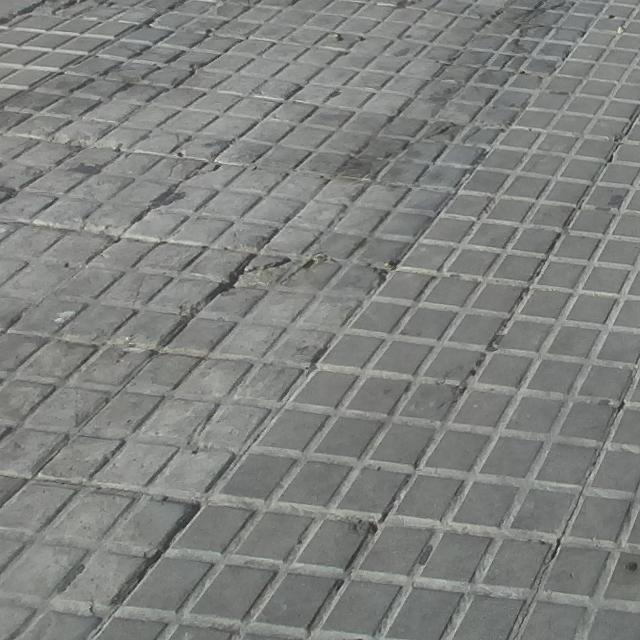calcada_quebrada: (380, 121, 455, 161), (500, 23, 544, 69)
